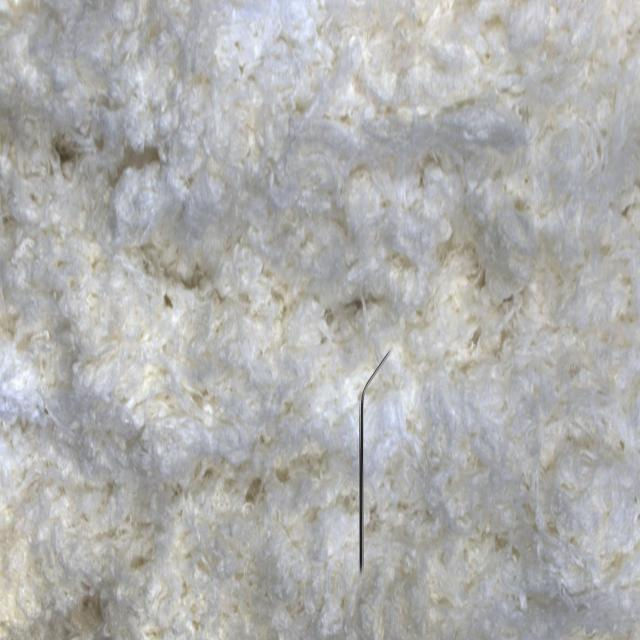dust: (322, 322, 409, 605)
